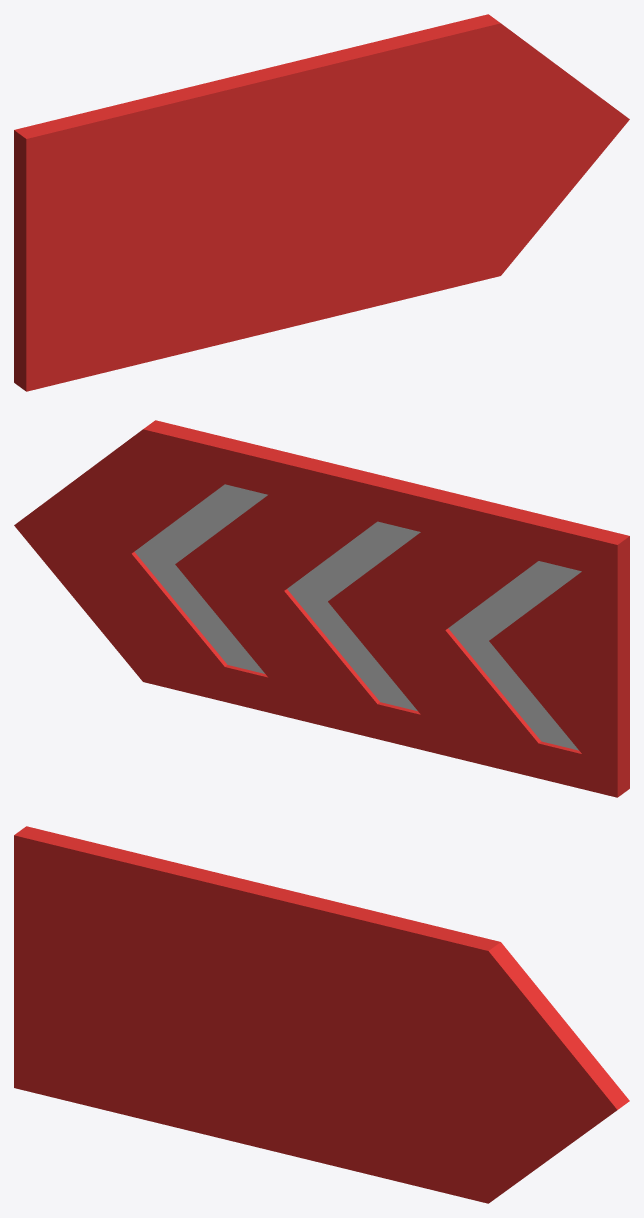
Rendered from Street Signs Turn left.fbx.
3 renders of one model, top to bottom at view 1: azimuth 30°, elevation 25°; view 2: azimuth 150°, elevation 25°; view 3: azimuth 330°, elevation 25°, orthographic.
Visible parts, largest first — view 1: Street Signs Turn Left; view 2: Street Signs Turn Left; view 3: Street Signs Turn Left.
Part boxes in pixels (x1,y1,x2,y2): Street Signs Turn Left: (14,14,629,391); Street Signs Turn Left: (14,420,629,797); Street Signs Turn Left: (14,826,629,1203).
Size of the model in its own units: 205 by 82.17 by 7.32.
